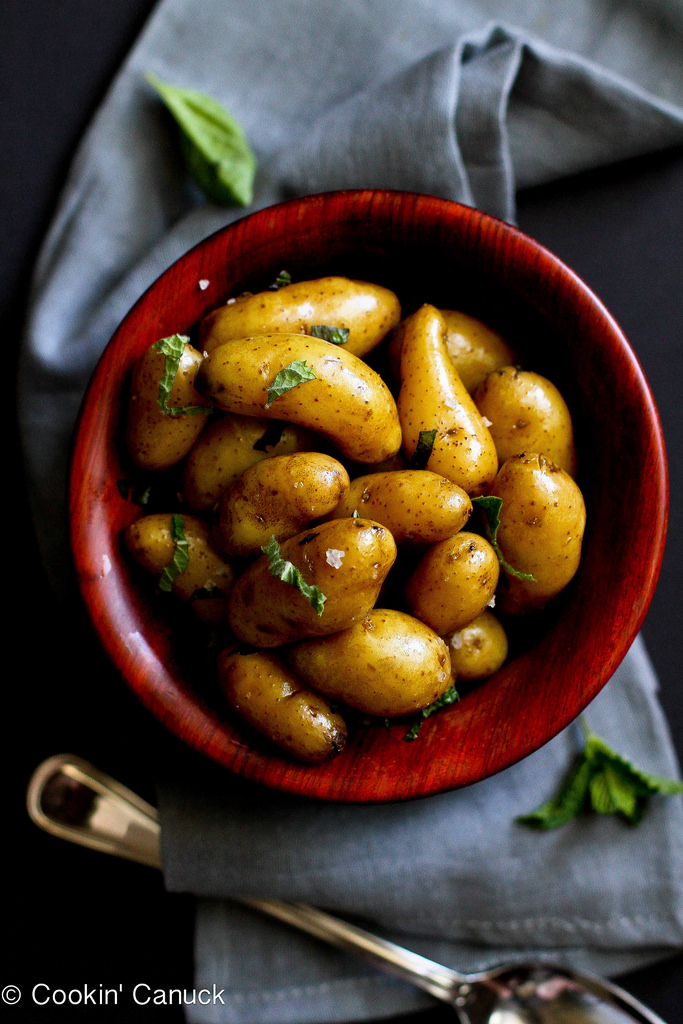boiled potatoes: (148, 297, 567, 696)
